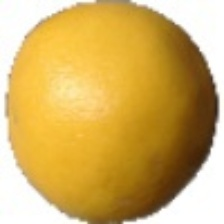grapes: (60, 31, 205, 222)
